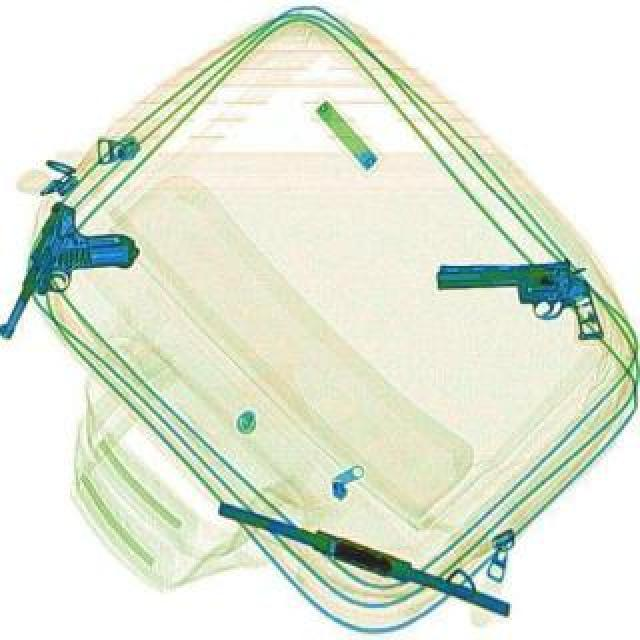gun: (0, 200, 152, 370), (438, 262, 608, 346)
